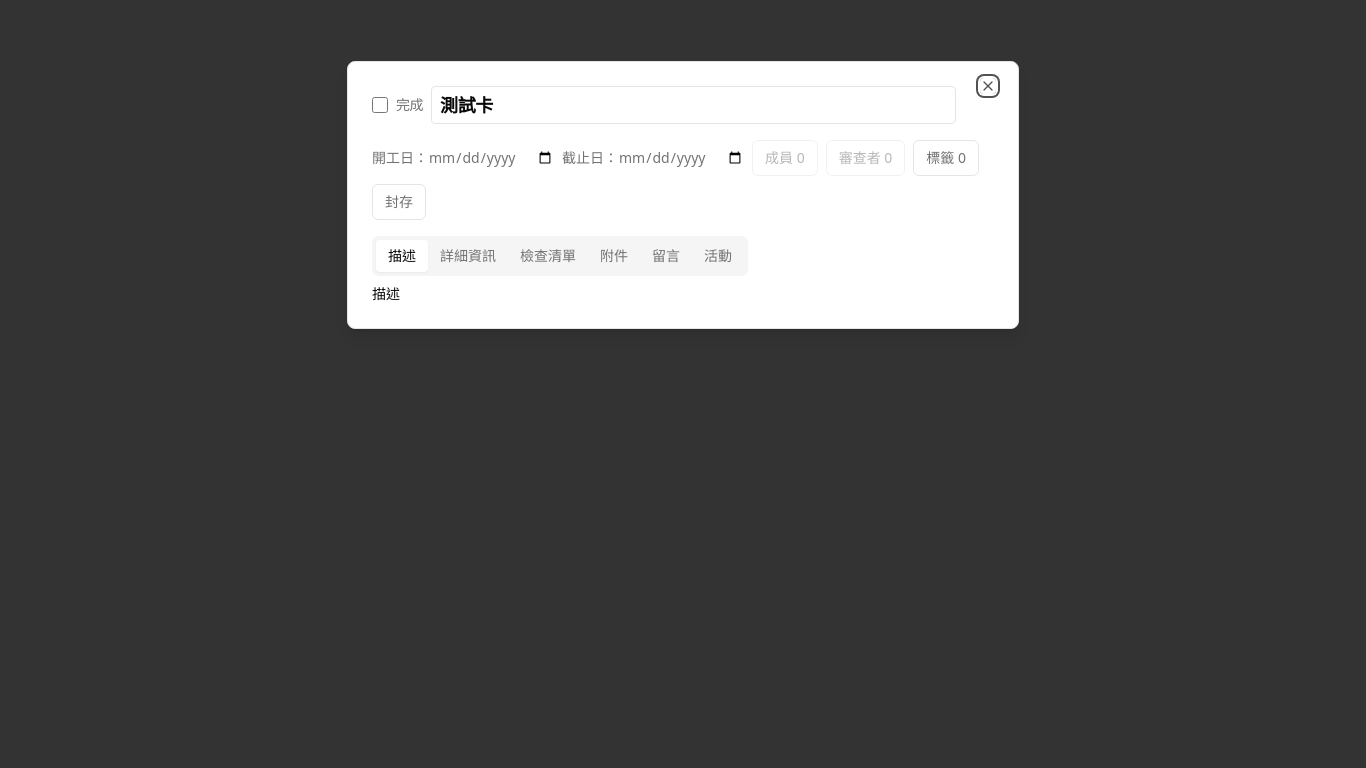
Test case: CardDialog › 渲染標題與活動串
The image size is (1366, 768).
Expected: the field showing "測試卡" is shown, top-left (431, 86), bottom-right (956, 124)
Note: TabsContent 未 forceMount，非作用中分頁內容不掛載——先切到活動分頁再斷言
Press the mouse on the tab "活動" at (718, 256), box top-left (692, 240), bottom-right (744, 272)
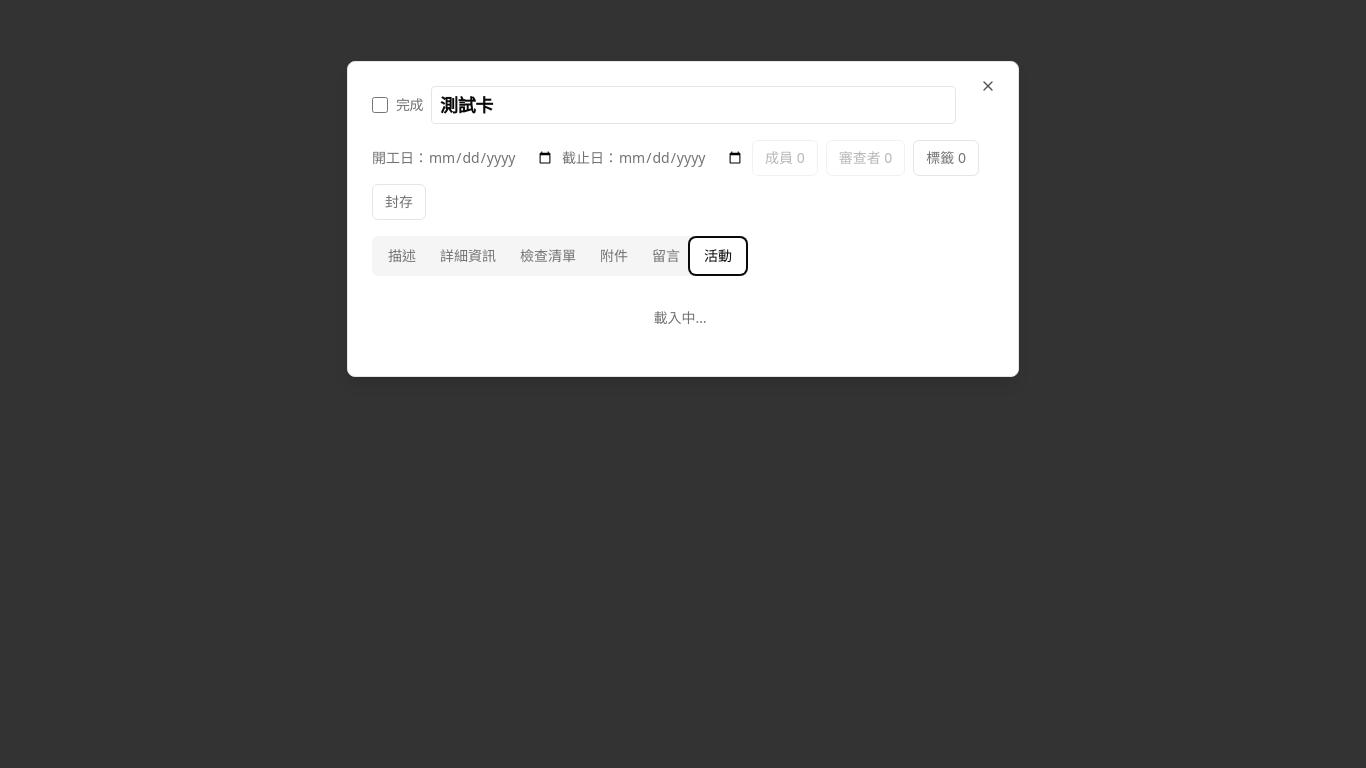
Click the tab "活動" at (718, 256), box top-left (692, 240), bottom-right (744, 272)
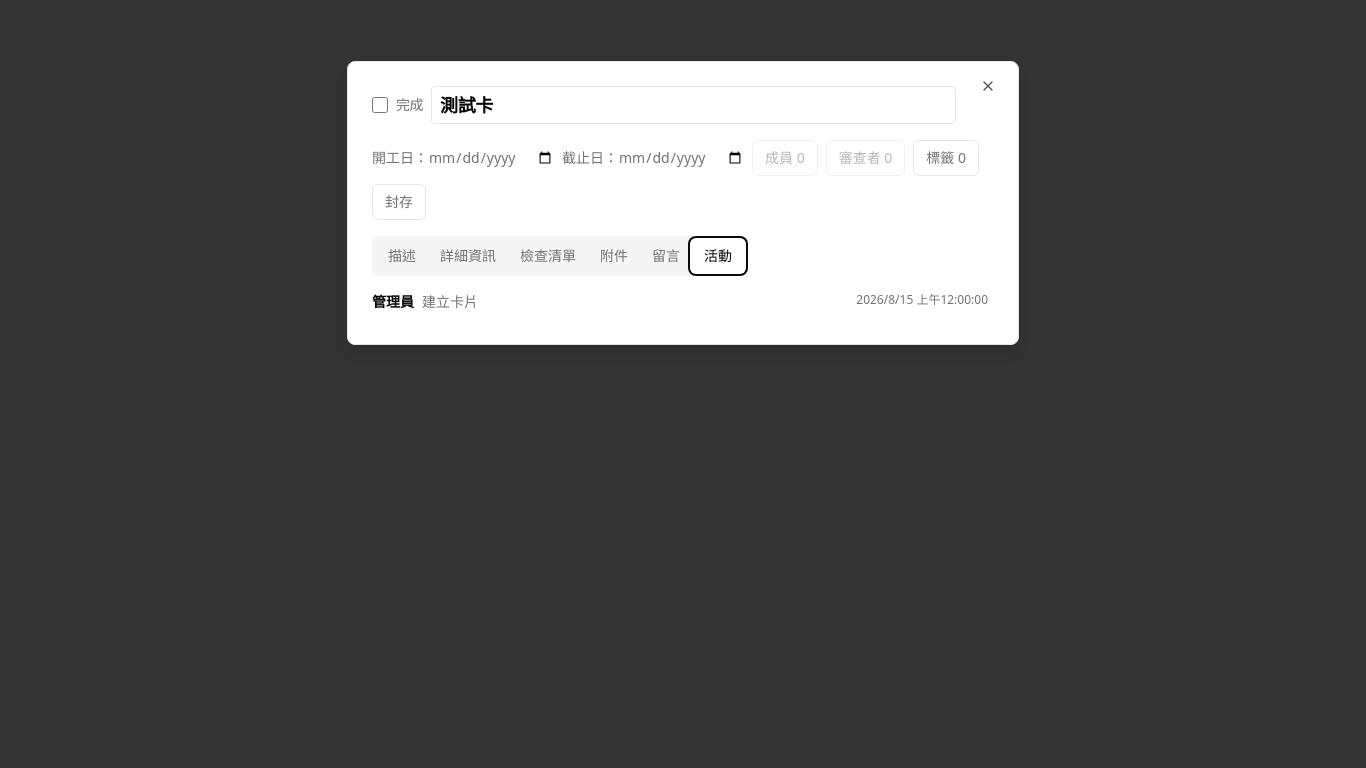
Now the text "管理員" is shown, box top-left (372, 292), bottom-right (414, 312)
